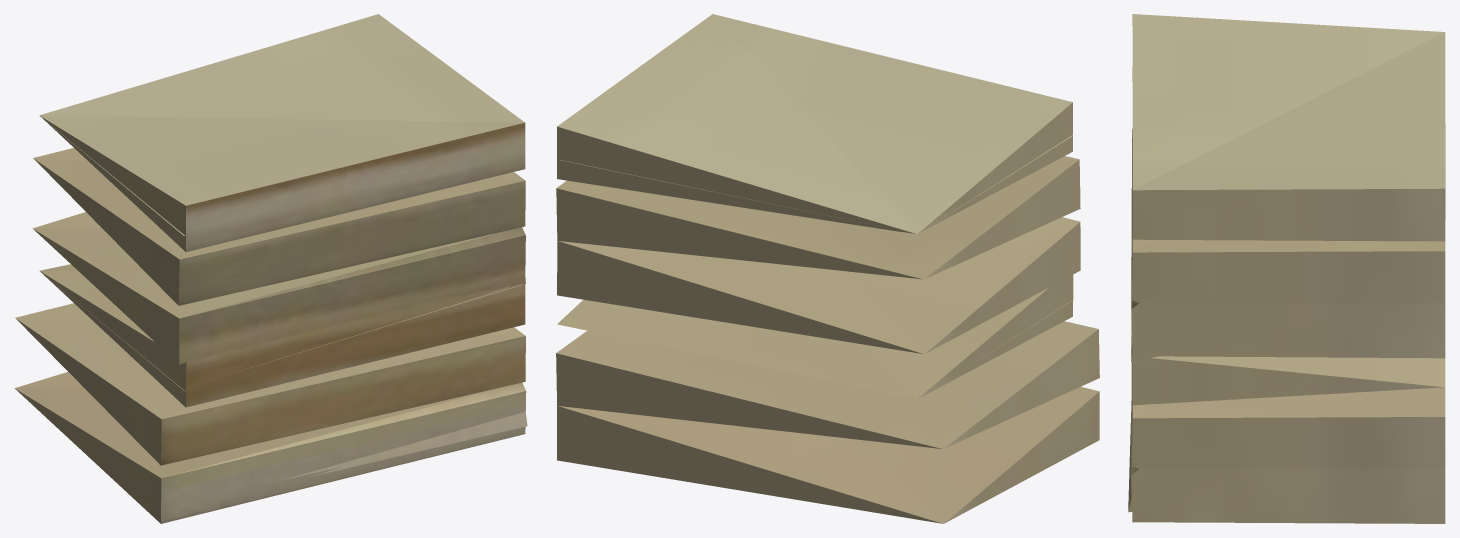
Rendered from book2_h2.dae.
The picture shows the model from 3 angles, left to right: view 1: azimuth 30°, elevation 25°; view 2: azimuth 150°, elevation 25°; view 3: azimuth 270°, elevation 25°; orthographic projection. The views are drawn at different scales.
Visible parts, largest first — view 1: node; view 2: node; view 3: node.
Part boxes in pixels (<box>): node: <box>14,14,527,523</box>; node: <box>556,14,1099,523</box>; node: <box>1128,14,1445,523</box>.
Bounding box in the file's own units: 0.1722 × 0.1416 × 0.1217.
3 materials, 3 textured.
